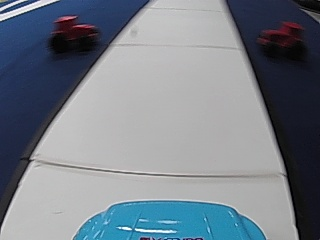tractor: (49, 13, 99, 53), (256, 19, 304, 59)
